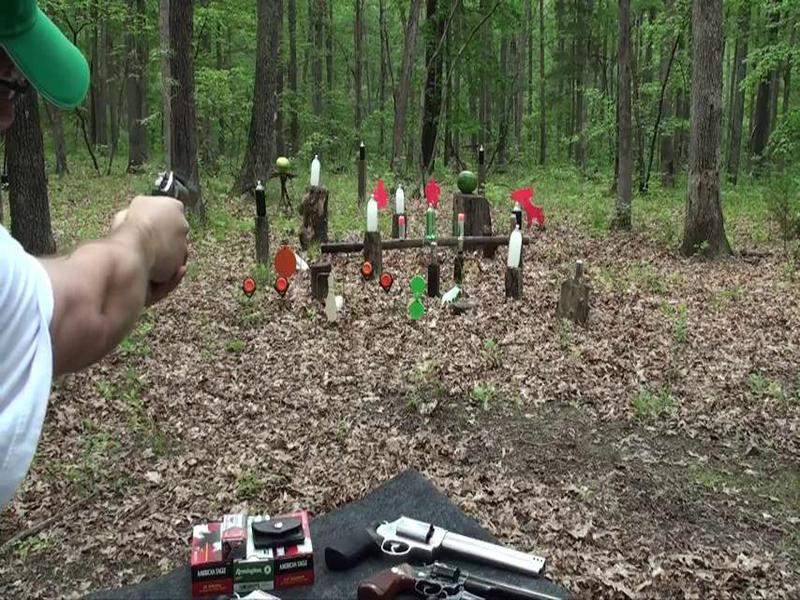Revolver: (134, 165, 204, 242)
